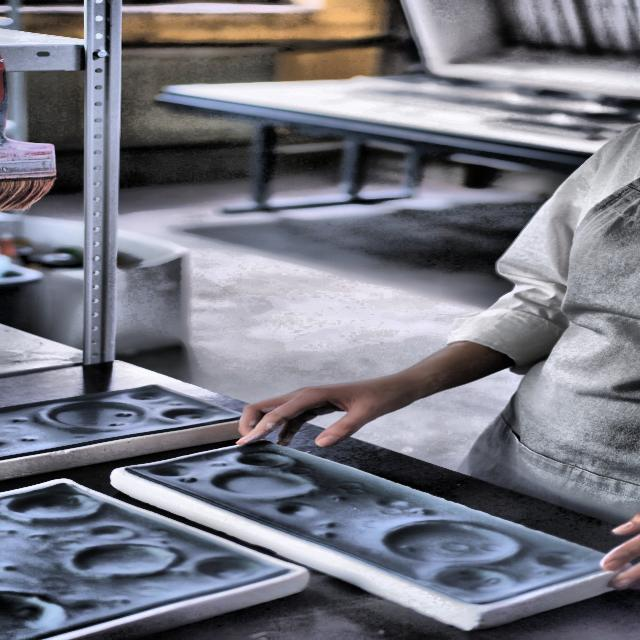not-gloved: (208, 366, 402, 454), (557, 506, 640, 617)
